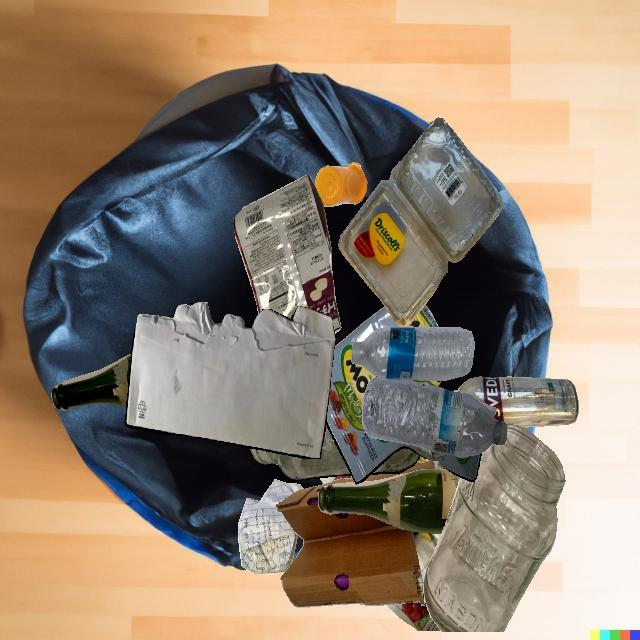cardboard: (276, 478, 425, 608)
glass: (423, 423, 565, 632), (318, 469, 460, 533), (452, 376, 579, 427), (248, 423, 351, 481), (51, 353, 131, 410), (371, 448, 420, 474)
paper: (324, 409, 488, 631), (125, 302, 335, 459), (238, 479, 304, 574)
plastic: (338, 117, 503, 327), (233, 175, 341, 333), (362, 376, 507, 457), (351, 327, 475, 381), (315, 162, 367, 207)
trash: (326, 306, 397, 484), (378, 327, 439, 442)
